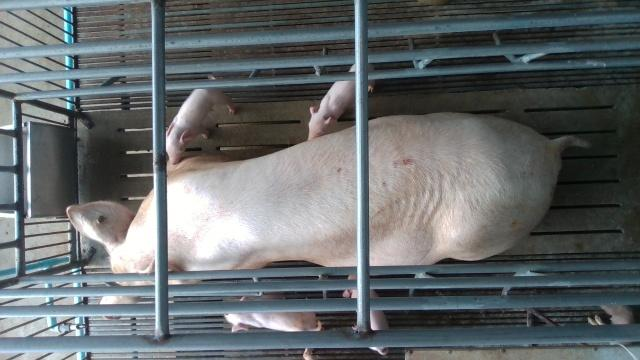piglet: (166, 88, 236, 165), (308, 64, 375, 140), (343, 275, 388, 355), (224, 297, 322, 332)
sow-sit: (66, 109, 592, 320)
